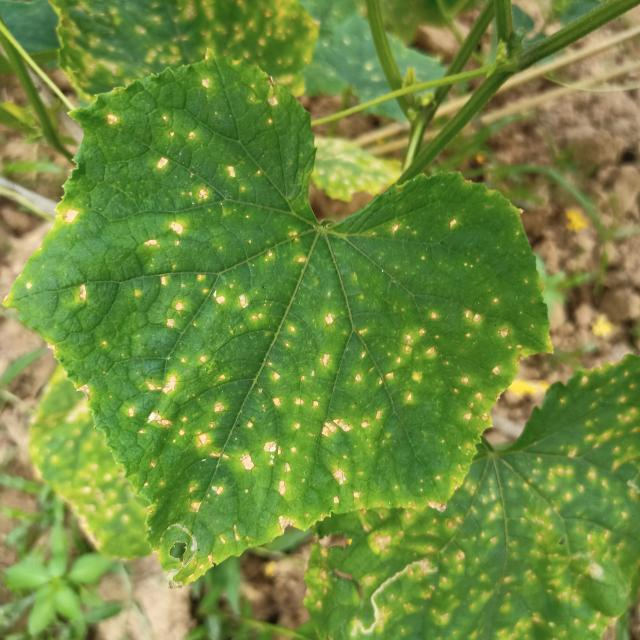disease_cucumber: (40, 207, 528, 520), (151, 73, 288, 206), (103, 108, 120, 132)
